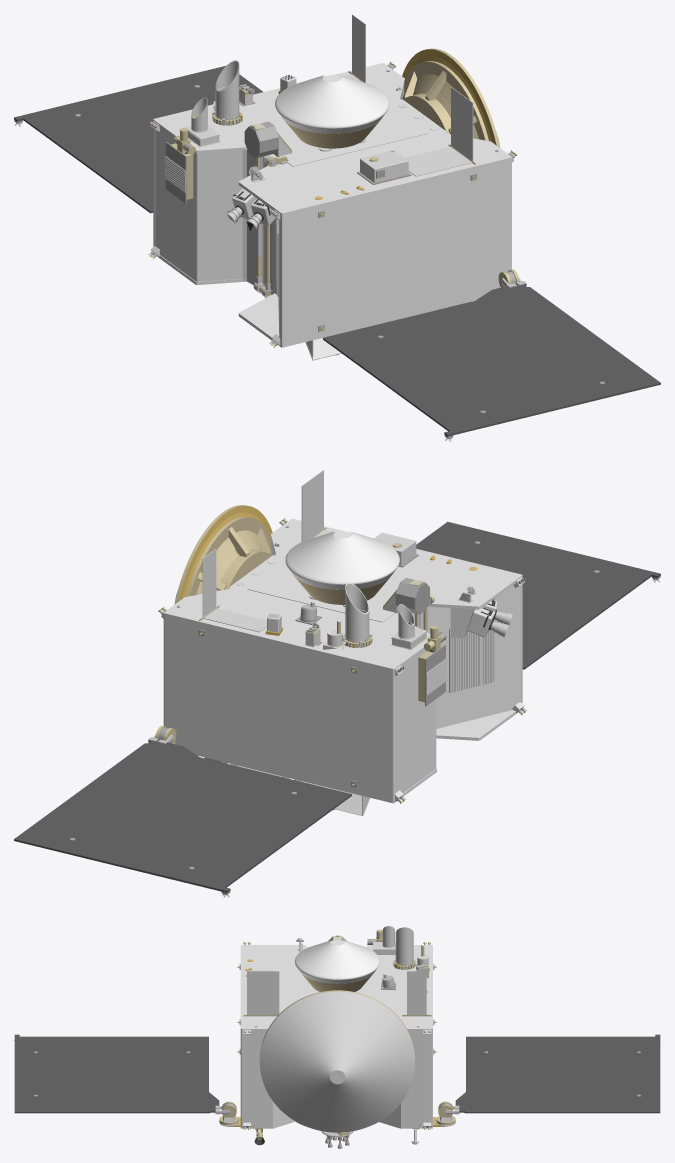
The model's file is origins-spectral-interpretation-resource-identification-and-security-regolith-explorer-osiris-rex.glb.
3 renders of one model, top to bottom at view 1: azimuth 30°, elevation 25°; view 2: azimuth 150°, elevation 25°; view 3: azimuth 270°, elevation 25°, orthographic. The views are drawn at different scales.
Visible parts, largest first — view 1: Main Layer; view 2: Main Layer; view 3: Main Layer.
Part boxes in pixels (box(x1,y1,x2,y2)): Main Layer: box(14, 14, 660, 441); Main Layer: box(14, 470, 660, 897); Main Layer: box(14, 926, 660, 1148).
Size of the model in its own units: 13.72 by 12.01 by 34.65.
